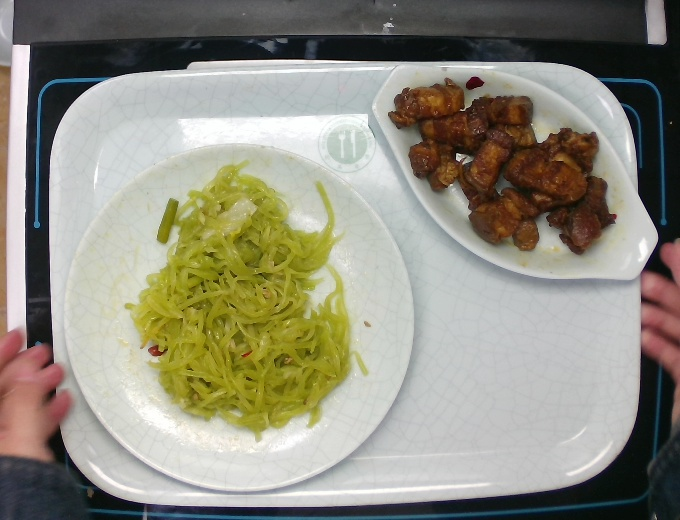JYsf-Da_Yuan_Pan: (60, 137, 418, 495)
JYsf-Yu_Pan: (369, 62, 662, 282)
